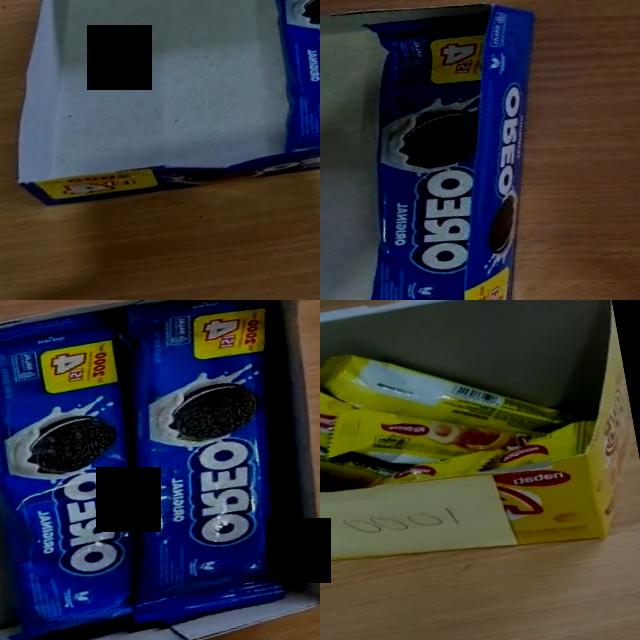Ahh: (320, 312, 598, 472), (320, 371, 552, 481), (320, 368, 450, 499), (320, 408, 414, 509), (360, 446, 510, 492), (482, 417, 603, 472), (320, 366, 366, 443)
Oreo: (73, 300, 320, 632), (320, 0, 593, 300), (0, 304, 178, 640), (248, 0, 320, 153)
